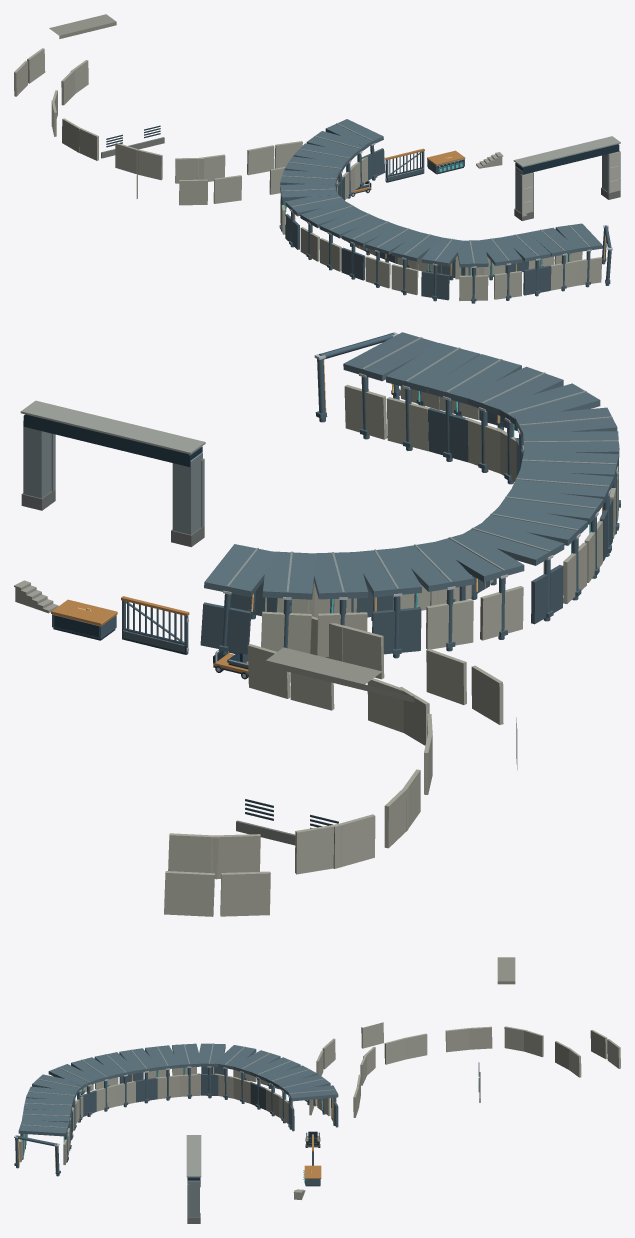
The model's file is coaster-arrival-assemblies.glb.
The picture shows the model from 3 angles, top to bottom: view 1: azimuth 30°, elevation 25°; view 2: azimuth 150°, elevation 25°; view 3: azimuth 270°, elevation 25°; orthographic projection. The views are drawn at different scales.
Visible parts, largest first — view 1: Tunnel structure · Role 20 · 0.11954 0.1912 0.23455, Station and service surface samples · Role 18 · 0.4452 0.450, Tunnel structure · Role 18 · 0.4452 0.45079 0.38133, Tunnel structure · Role 13 · 0.08228 0.13563 0.17144, Tunnel structure · Role 13 · 0.08438 0.14703 0.1912, Tunnel structure · Role 13 · 0.29614 0.35153 0.35153, Station and service surface samples · Role 18 · 0.37626 0.40, Station and service surface samples · Role 18 · 0.50888 0.52, Station and service surface samples · Role 18 · 0.32778 0.33, Station and service surface samples · Role 19 · 0.02029 0.04, Gate leaf · Role 13 · 0.08438 0.14703 0.1912, Station and service surface samples · Role 18 · 0.22323 0.27; view 2: Tunnel structure · Role 20 · 0.11954 0.1912 0.23455, Station and service surface samples · Role 18 · 0.4452 0.450, Tunnel structure · Role 18 · 0.4452 0.45079 0.38133, Tunnel structure · Role 13 · 0.08228 0.13563 0.17144, Tunnel structure · Role 13 · 0.08438 0.14703 0.1912, Station and service surface samples · Role 18 · 0.22323 0.27, Tunnel structure · Role 13 · 0.29614 0.35153 0.35153, Station and service surface samples · Role 18 · 0.37626 0.40, Station and service surface samples · Role 18 · 0.32778 0.33, Station and service surface samples · Role 19 · 0.02029 0.04, Gate leaf · Role 13 · 0.08438 0.14703 0.1912, Chest lid in hinge coordinates · Role 13 · 0.54572 0.26225 0 (+2 smaller); view 3: Tunnel structure · Role 20 · 0.11954 0.1912 0.23455, Station and service surface samples · Role 18 · 0.4452 0.450, Tunnel structure · Role 18 · 0.4452 0.45079 0.38133, Tunnel structure · Role 13 · 0.08228 0.13563 0.17144, Tunnel structure · Role 13 · 0.08438 0.14703 0.1912, Tunnel structure · Role 13 · 0.29614 0.35153 0.35153, Station and service surface samples · Role 18 · 0.37626 0.40, Station and service surface samples · Role 18 · 0.32778 0.33, Station and service surface samples · Role 18 · 0.22323 0.27.
Part boxes in pixels (x1=…): Tunnel structure · Role 20 · 0.11954 0.1912 0.23455: x1=280, y1=119, x2=602, y2=267; Station and service surface samples · Role 18 · 0.4452 0.450: x1=14, y1=48, x2=302, y2=205; Tunnel structure · Role 18 · 0.4452 0.45079 0.38133: x1=280, y1=156, x2=602, y2=301; Tunnel structure · Role 13 · 0.08228 0.13563 0.17144: x1=285, y1=148, x2=550, y2=300; Tunnel structure · Role 13 · 0.08438 0.14703 0.1912: x1=279, y1=145, x2=611, y2=303; Tunnel structure · Role 13 · 0.29614 0.35153 0.35153: x1=281, y1=123, x2=589, y2=263; Station and service surface samples · Role 18 · 0.37626 0.40: x1=513, y1=136, x2=620, y2=167; Station and service surface samples · Role 18 · 0.50888 0.52: x1=522, y1=152, x2=620, y2=216; Station and service surface samples · Role 18 · 0.32778 0.33: x1=49, y1=14, x2=116, y2=38; Station and service surface samples · Role 19 · 0.02029 0.04: x1=515, y1=144, x2=619, y2=174; Gate leaf · Role 13 · 0.08438 0.14703 0.1912: x1=385, y1=151, x2=424, y2=182; Station and service surface samples · Role 18 · 0.22323 0.27: x1=515, y1=151, x2=618, y2=212; Tunnel structure · Role 20 · 0.11954 0.1912 0.23455: x1=204, y1=332, x2=619, y2=599; Station and service surface samples · Role 18 · 0.4452 0.450: x1=164, y1=616, x2=517, y2=916; Tunnel structure · Role 18 · 0.4452 0.45079 0.38133: x1=261, y1=384, x2=618, y2=657; Tunnel structure · Role 13 · 0.08228 0.13563 0.17144: x1=200, y1=407, x2=613, y2=654; Tunnel structure · Role 13 · 0.08438 0.14703 0.1912: x1=219, y1=333, x2=620, y2=658; Station and service surface samples · Role 18 · 0.22323 0.27: x1=23, y1=421, x2=202, y2=534; Tunnel structure · Role 13 · 0.29614 0.35153 0.35153: x1=227, y1=337, x2=618, y2=592; Station and service surface samples · Role 18 · 0.37626 0.40: x1=20, y1=400, x2=205, y2=454; Station and service surface samples · Role 18 · 0.32778 0.33: x1=265, y1=647, x2=414, y2=702; Station and service surface samples · Role 19 · 0.02029 0.04: x1=23, y1=414, x2=202, y2=467; Gate leaf · Role 13 · 0.08438 0.14703 0.1912: x1=122, y1=600, x2=188, y2=654; Chest lid in hinge coordinates · Role 13 · 0.54572 0.26225 0: x1=51, y1=599, x2=117, y2=625; Tunnel structure · Role 20 · 0.11954 0.1912 0.23455: x1=18, y1=1043, x2=338, y2=1136; Station and service surface samples · Role 18 · 0.4452 0.450: x1=309, y1=1022, x2=620, y2=1117; Tunnel structure · Role 18 · 0.4452 0.45079 0.38133: x1=19, y1=1067, x2=330, y2=1165; Tunnel structure · Role 13 · 0.08228 0.13563 0.17144: x1=26, y1=1066, x2=338, y2=1141; Tunnel structure · Role 13 · 0.08438 0.14703 0.1912: x1=14, y1=1067, x2=336, y2=1176; Tunnel structure · Role 13 · 0.29614 0.35153 0.35153: x1=20, y1=1043, x2=335, y2=1128; Station and service surface samples · Role 18 · 0.37626 0.40: x1=186, y1=1135, x2=201, y2=1177; Station and service surface samples · Role 18 · 0.32778 0.33: x1=497, y1=957, x2=515, y2=984; Station and service surface samples · Role 18 · 0.22323 0.27: x1=188, y1=1180, x2=199, y2=1217.
Size of the model in its own units: 54.95 by 15.91 by 81.58.
